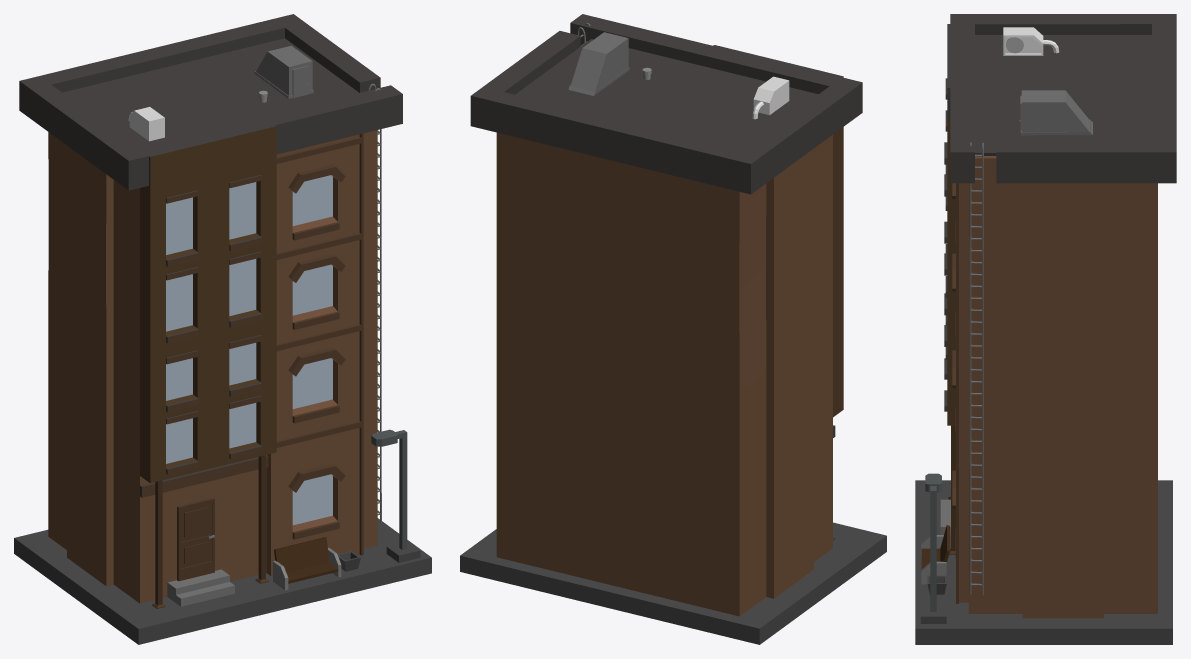
Rendered from Low Poly City Buillding .fbx.
3 views of the same model, side by side, from view 1: azimuth 30°, elevation 25°; view 2: azimuth 150°, elevation 25°; view 3: azimuth 270°, elevation 25° (orthographic). The views are drawn at different scales.
Visible parts, largest first — view 1: House, Ground, Door, Bench, Street lamp, Stairs, Building ladder; view 2: House, Ground; view 3: House, Ground, Building ladder, Street lamp, Bench.
Part boxes in pixels (x1,y1,x2,y2): House: [19, 14, 402, 608]; Ground: [14, 518, 431, 644]; Door: [177, 497, 214, 581]; Bench: [273, 537, 341, 590]; Street lamp: [371, 429, 420, 562]; Stairs: [167, 569, 234, 606]; Building ladder: [368, 83, 381, 523]; House: [470, 14, 862, 616]; Ground: [460, 522, 886, 644]; House: [944, 14, 1176, 618]; Ground: [915, 480, 1172, 644]; Building ladder: [969, 142, 983, 595]; Street lamp: [920, 473, 946, 623]; Bench: [921, 525, 949, 584].
Size of the model in its own units: 1110 by 1777 by 827.
